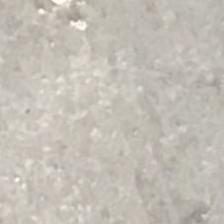Non_Crack: (5, 20, 217, 190)
